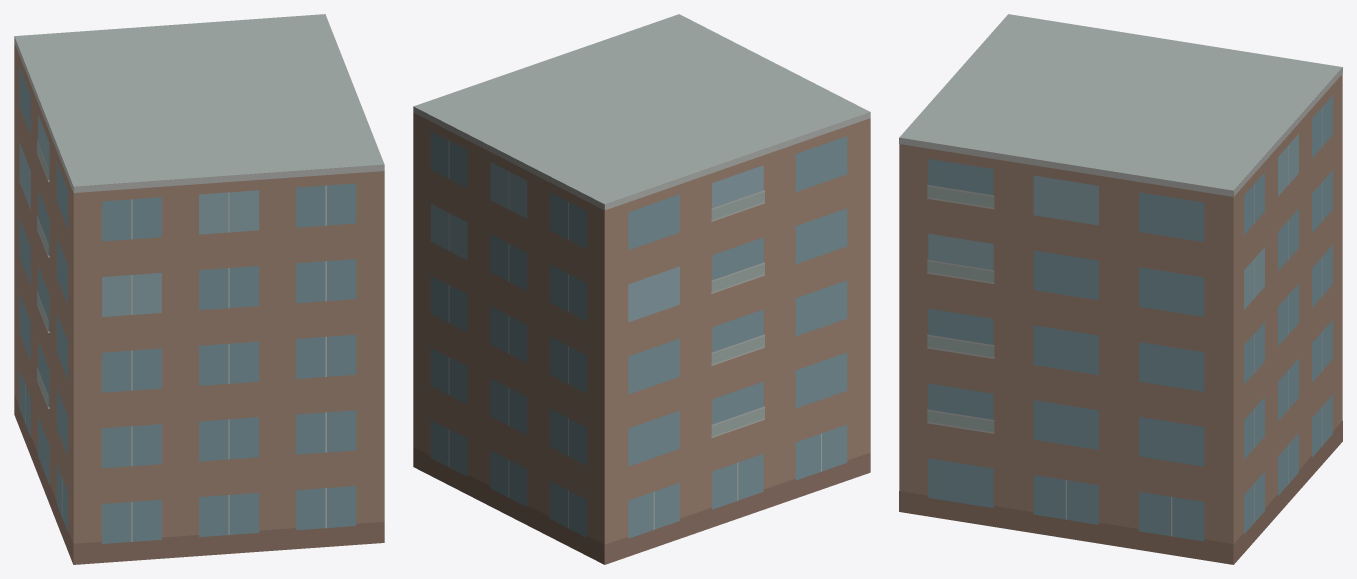
The model's file is survey-upis-32707443.glb.
3 renders of one model, left to right at view 1: azimuth 30°, elevation 25°; view 2: azimuth 150°, elevation 25°; view 3: azimuth 270°, elevation 25°, orthographic. The views are drawn at different scales.
Visible parts, largest first — view 1: survey-upis-32707443.tmp; view 2: survey-upis-32707443.tmp; view 3: survey-upis-32707443.tmp.
Part boxes in pixels (x1=…): survey-upis-32707443.tmp: x1=14, y1=14, x2=384, y2=564; survey-upis-32707443.tmp: x1=413, y1=14, x2=870, y2=564; survey-upis-32707443.tmp: x1=899, y1=14, x2=1342, y2=564.
Size of the model in its own units: 14.59 by 14.4 by 15.48.
